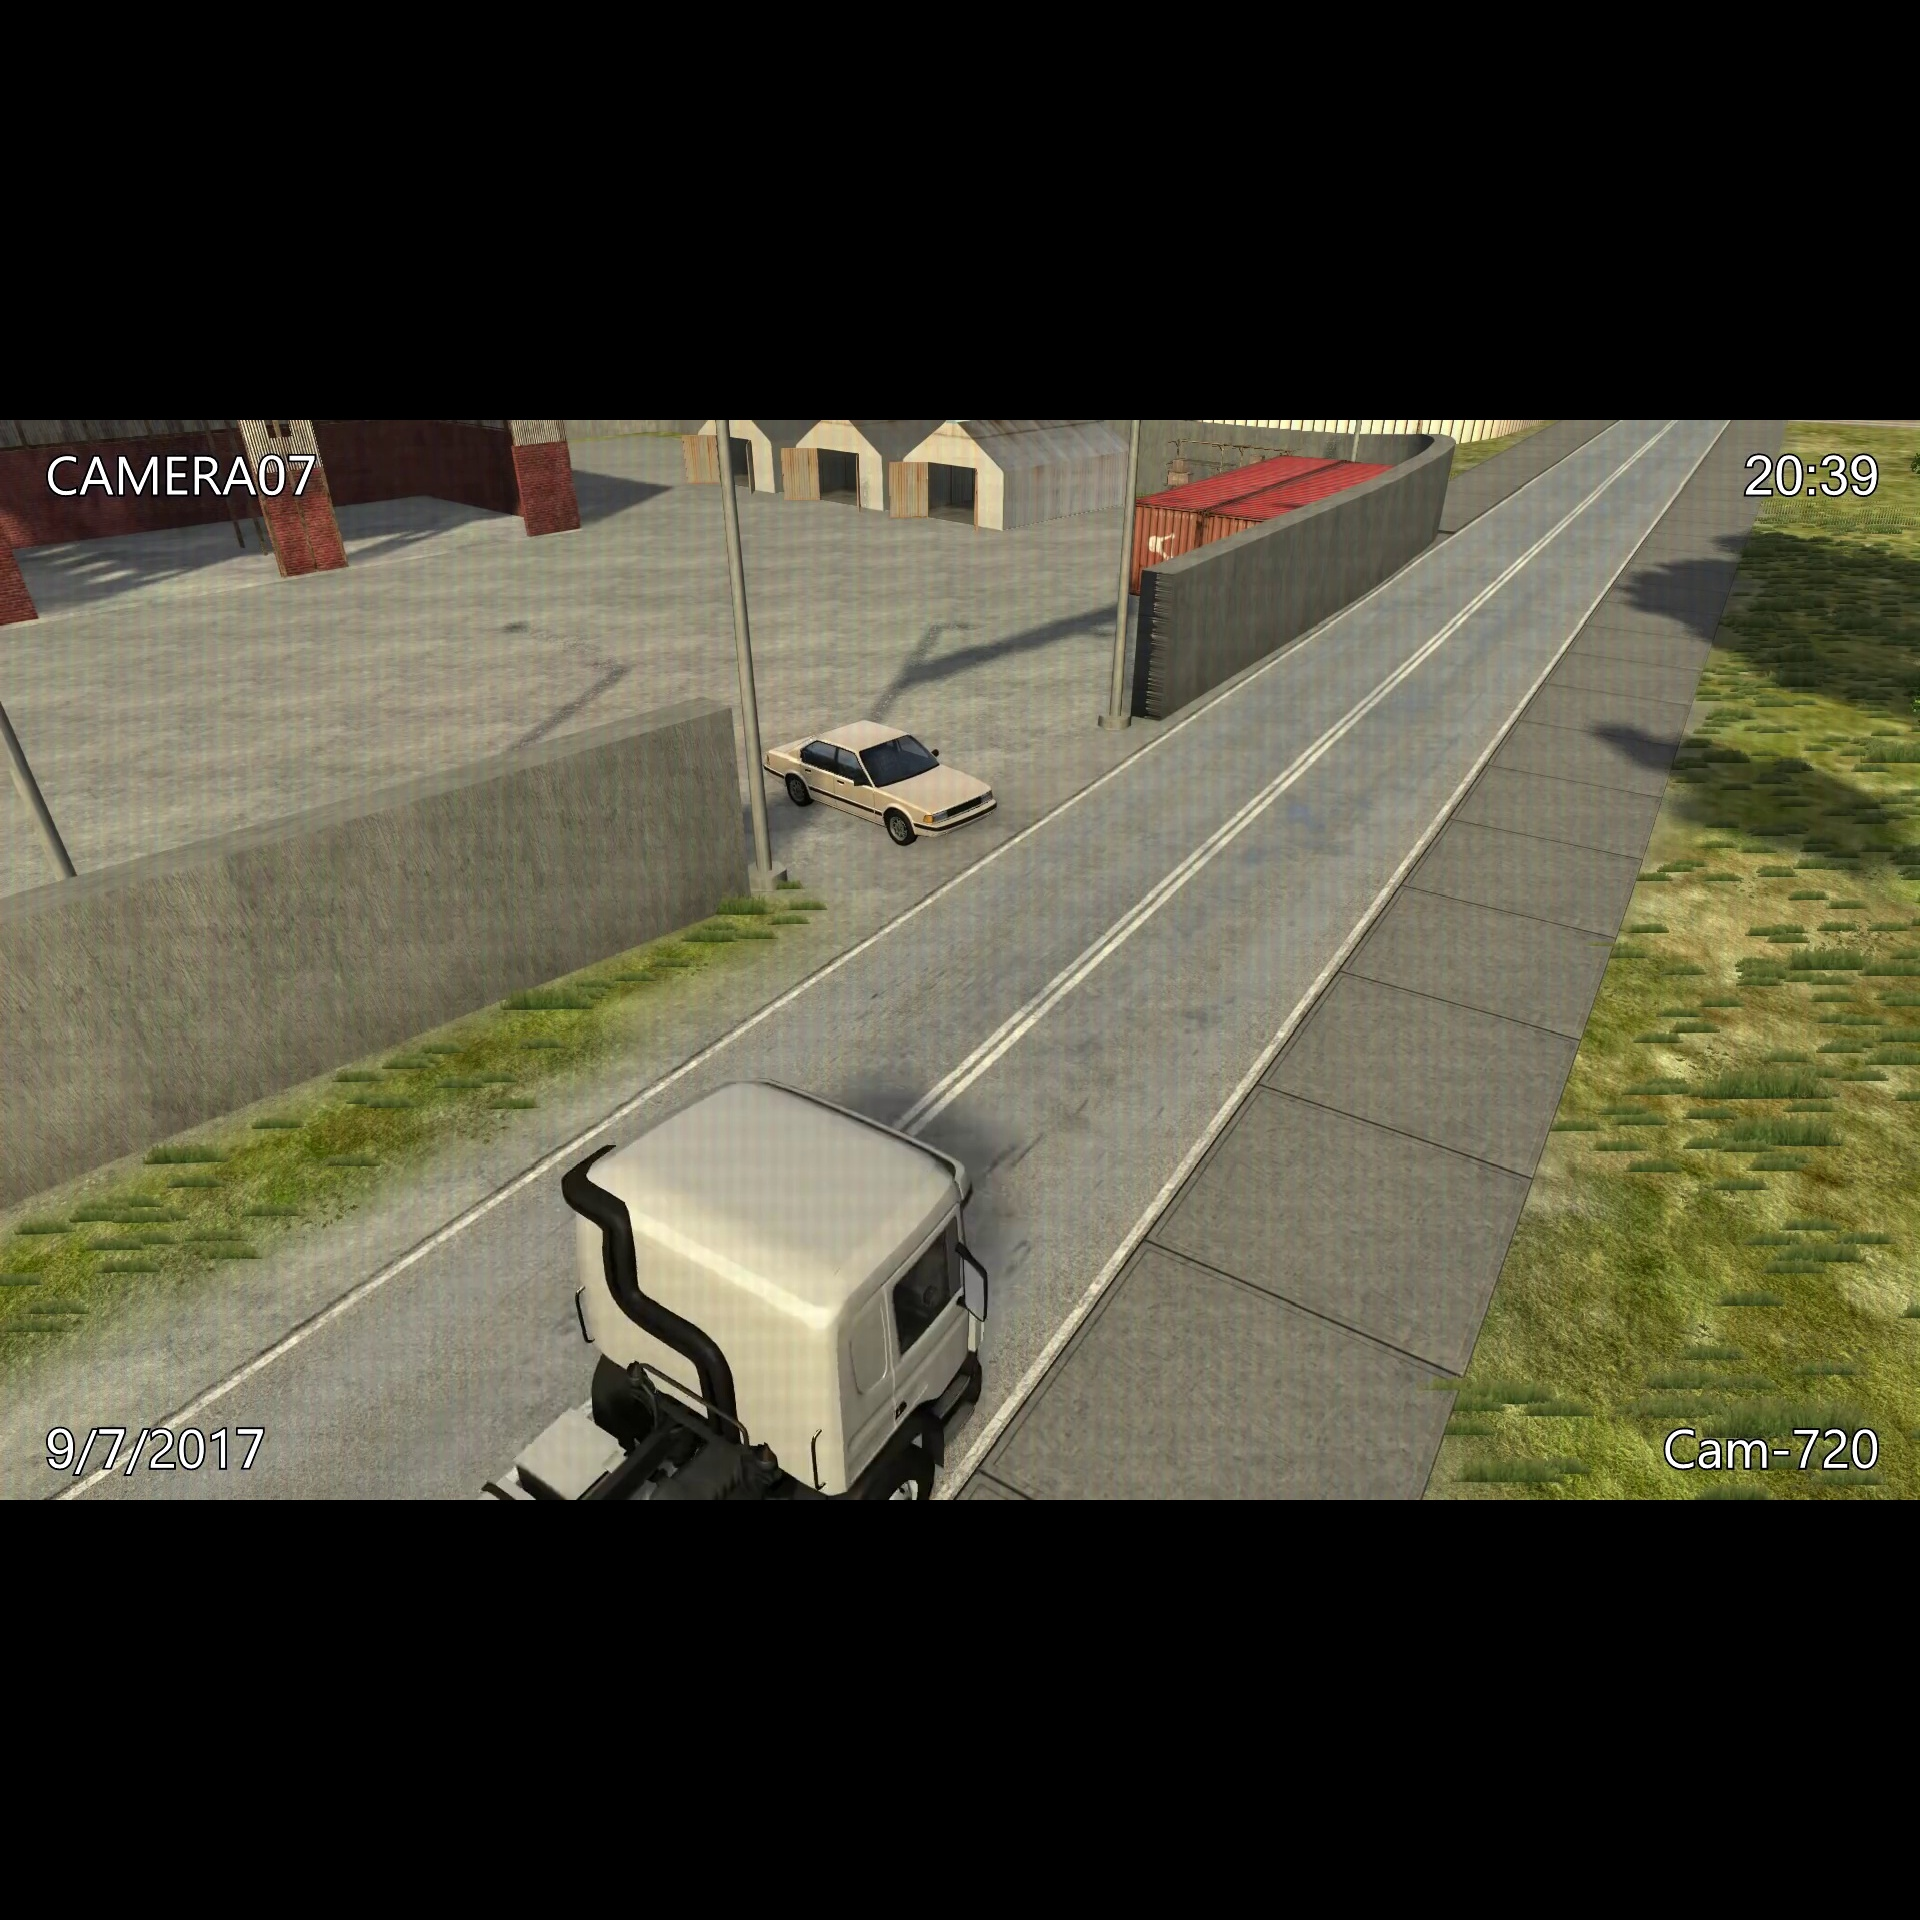vehicle: (448, 1065, 999, 1502), (763, 716, 1015, 855)
